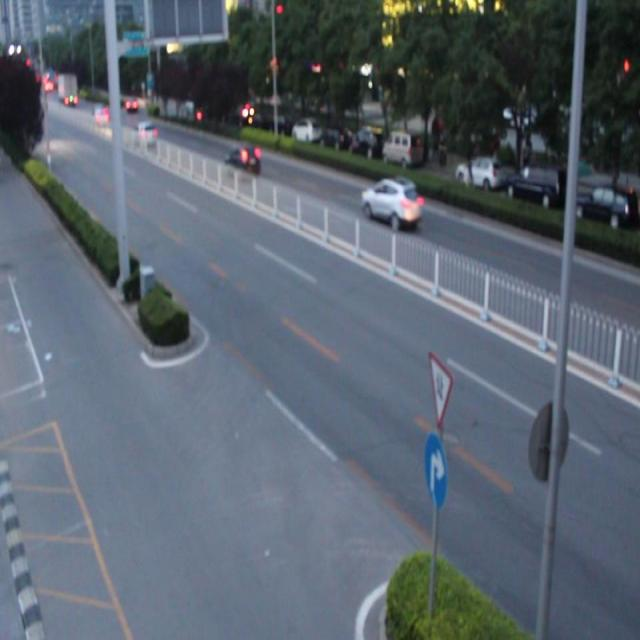car: (360, 176, 423, 232), (224, 144, 260, 180)
